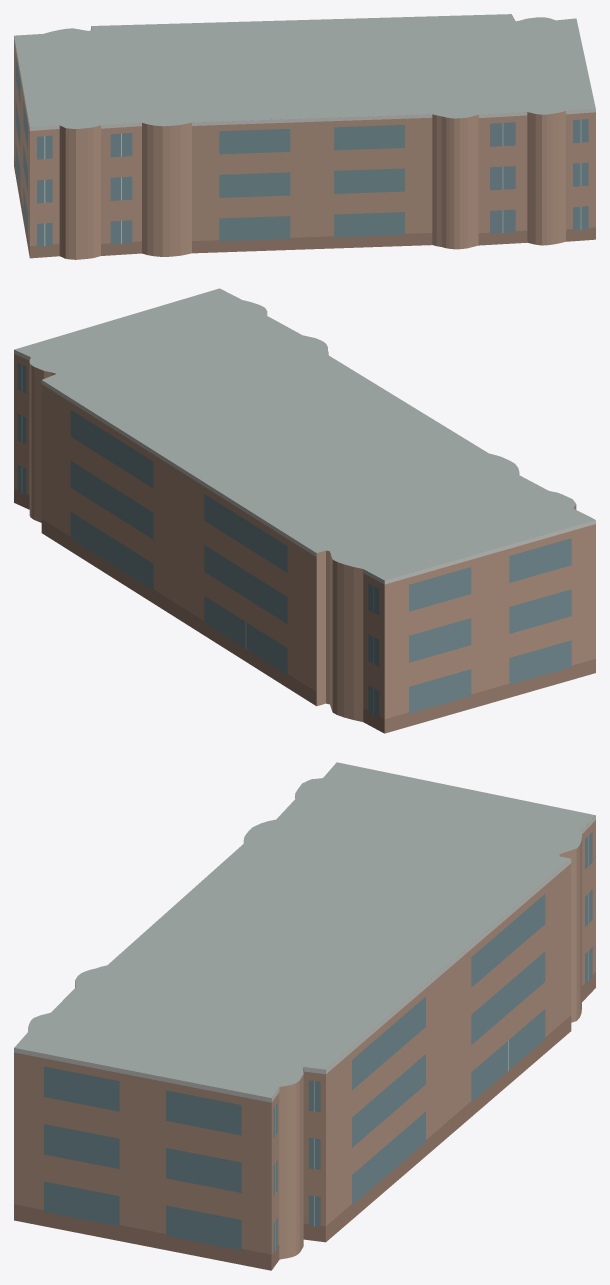
File: survey-upis-32842956.glb
3 views of the same model, one above another, from view 1: azimuth 30°, elevation 25°; view 2: azimuth 150°, elevation 25°; view 3: azimuth 270°, elevation 25° (orthographic). The views are drawn at different scales.
Parts seen in each view (by area): view 1: survey-upis-32842956.tmp; view 2: survey-upis-32842956.tmp; view 3: survey-upis-32842956.tmp.
Part boxes in pixels (x1,y1,x2,y2): survey-upis-32842956.tmp: (14, 14, 595, 259); survey-upis-32842956.tmp: (14, 288, 595, 733); survey-upis-32842956.tmp: (14, 762, 595, 1270).
Bounding box in the file's own units: 38.21 × 9.15 × 27.97.
